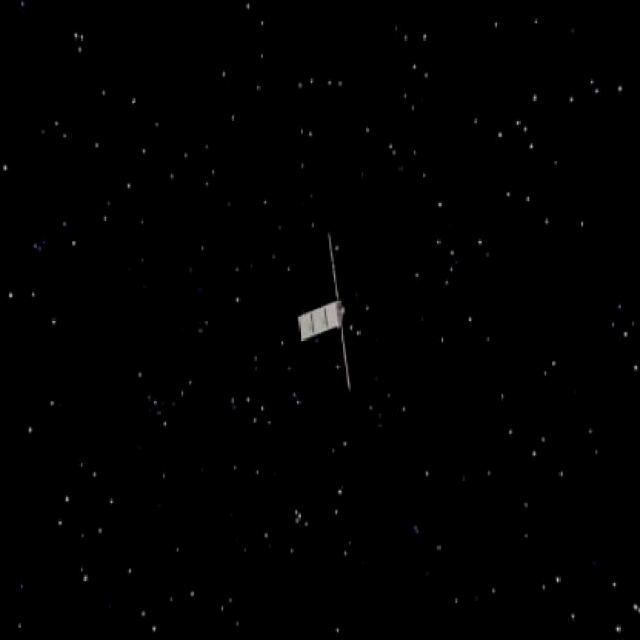medium_debris: (285, 221, 367, 406)
